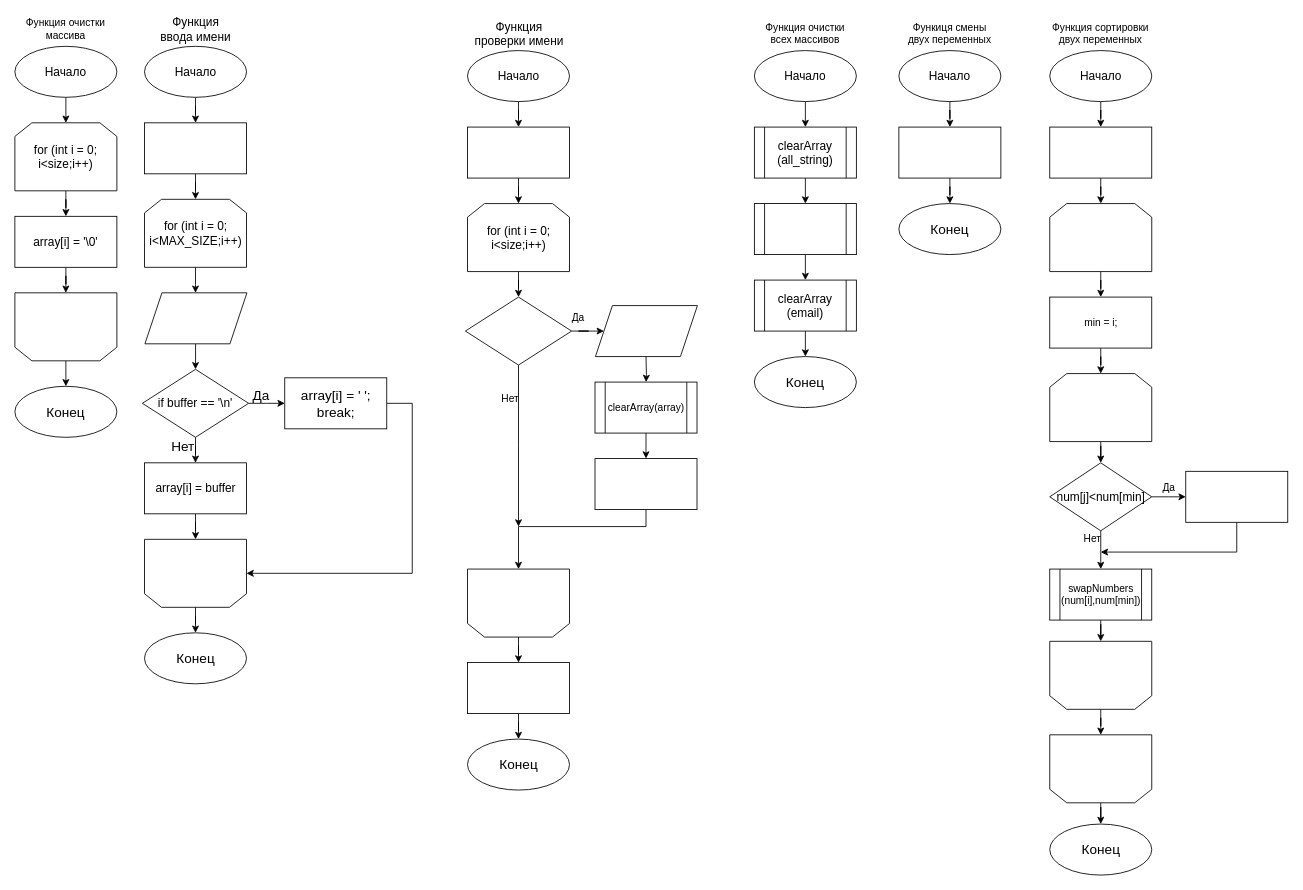
Image size: 1303x890. Some labels were removed from this diagram. Here are the shapes that lost their labels. From the top down, the box of each, then its label:
(144, 122, 246, 174): char buffer;
(467, 126, 570, 178): k = strlen(array)-1
(898, 126, 1001, 178): char buffer = '\0' buffer = *num1; *num1 = *num2; *num2 = buffer;
(1049, 126, 1152, 178): int min;
(754, 203, 856, 255): clearArray (numGroup)
(1049, 203, 1152, 272): for (int i = 0; i<size-1;i++)
(144, 292, 247, 344): buffer = getchar()
(465, 296, 572, 365): if (!isalpha(array[i]))
(595, 305, 697, 357): Ошибка, попро-буйте снова
(1049, 373, 1152, 442): for (int j = i+1; j<size;j++)
(594, 458, 697, 510): return 0
(1185, 470, 1288, 522): min = j
(467, 662, 570, 714): return 1
